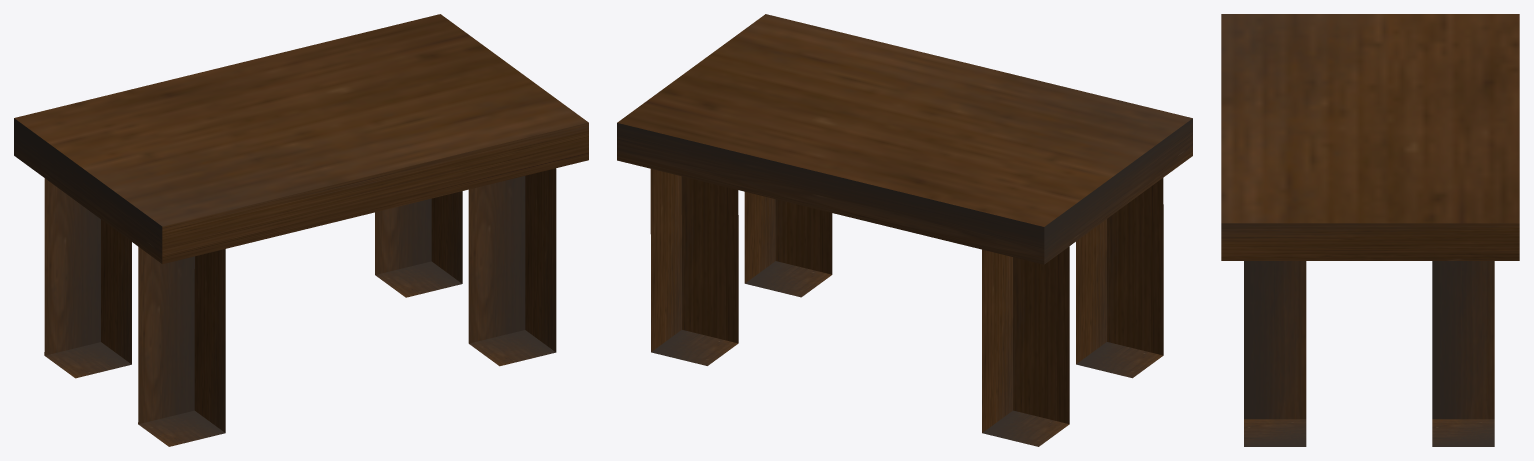
Rendered from MesaBiblioteca.fbx.
The picture shows the model from 3 angles, left to right: view 1: azimuth 30°, elevation 25°; view 2: azimuth 150°, elevation 25°; view 3: azimuth 270°, elevation 25°; orthographic projection.
Visible parts, largest first — view 1: MesaBiblioteca; view 2: MesaBiblioteca; view 3: MesaBiblioteca.
Boxes of the visible parts, bbox=[...] form: MesaBiblioteca: bbox=[14, 14, 588, 446]; MesaBiblioteca: bbox=[617, 14, 1192, 446]; MesaBiblioteca: bbox=[1221, 14, 1519, 446].
Size of the model in its own units: 396 by 207 by 239.
